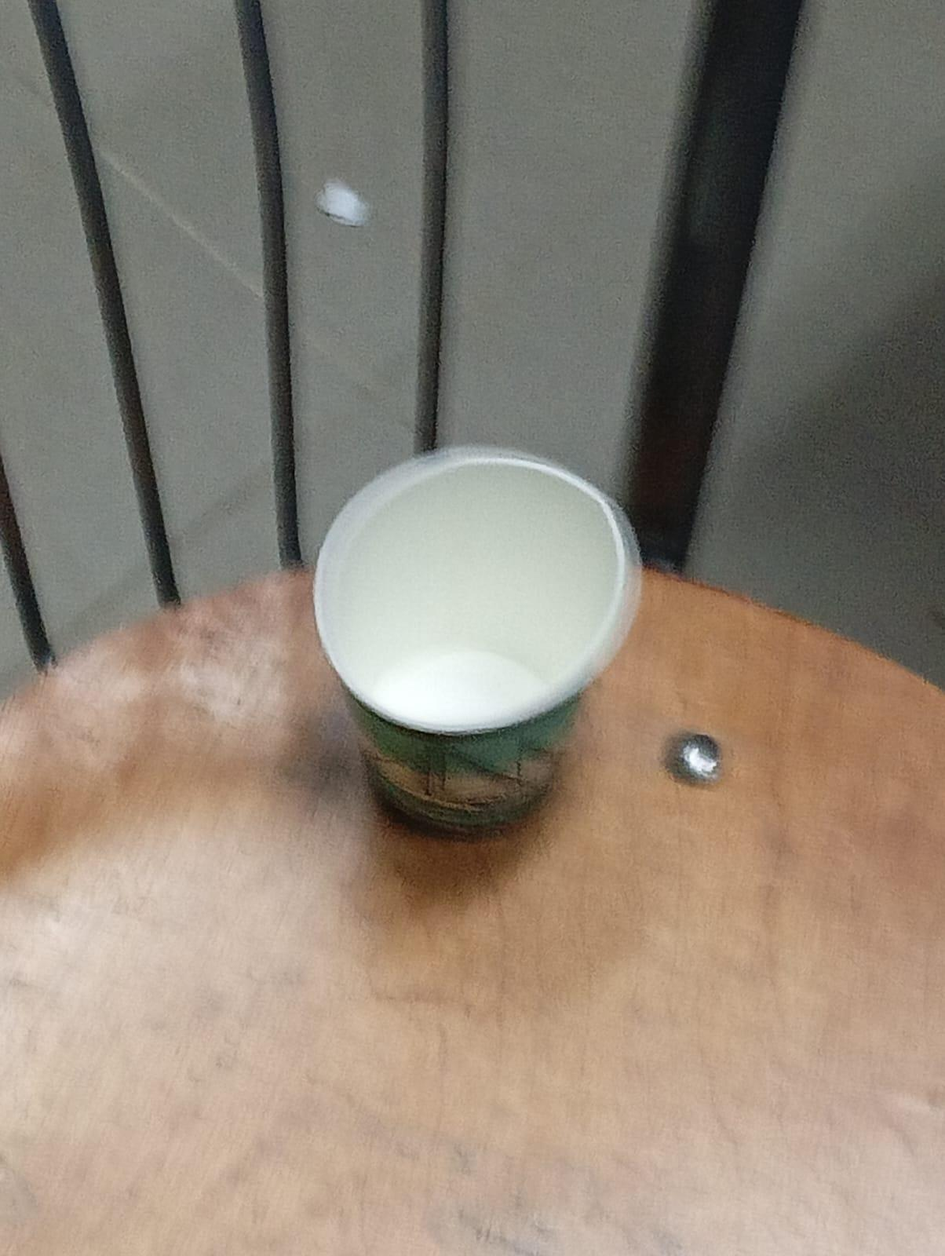cup: (315, 448, 640, 832)
